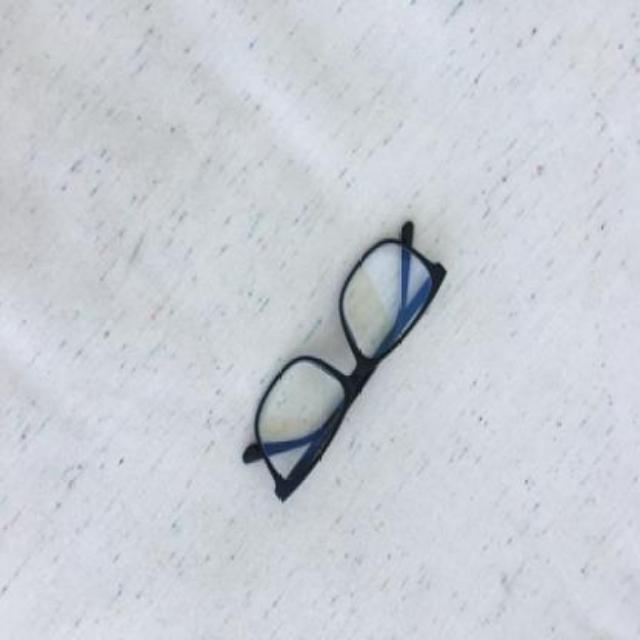mask: (240, 220, 448, 504)
